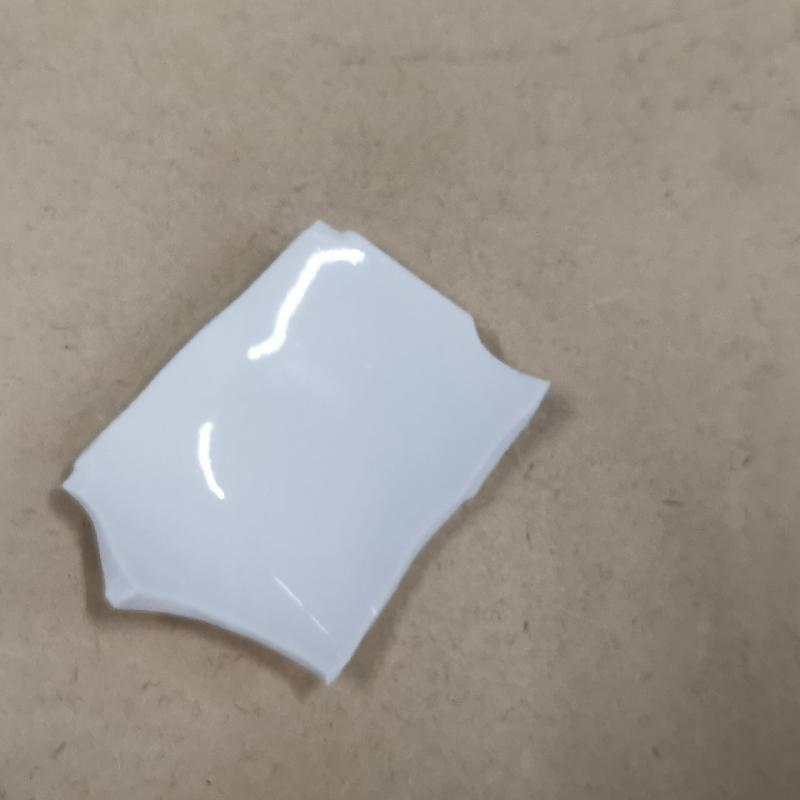ceram: (44, 219, 557, 693)
